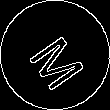M_NE: (21, 22, 89, 88)
